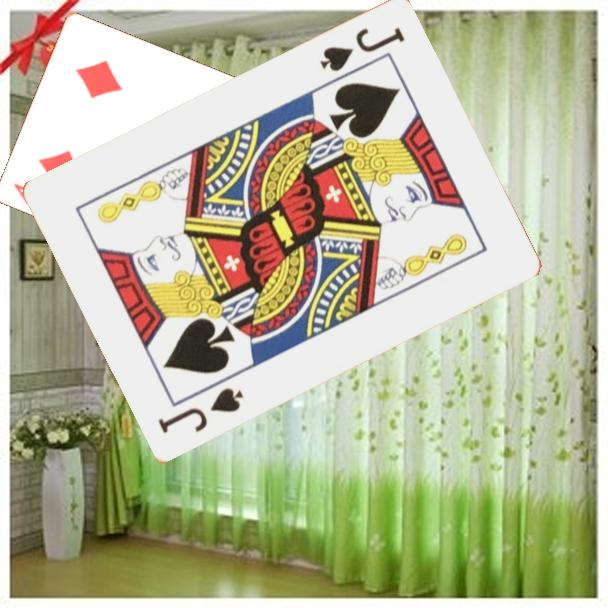s11: (154, 383, 247, 436), (316, 23, 408, 74)
